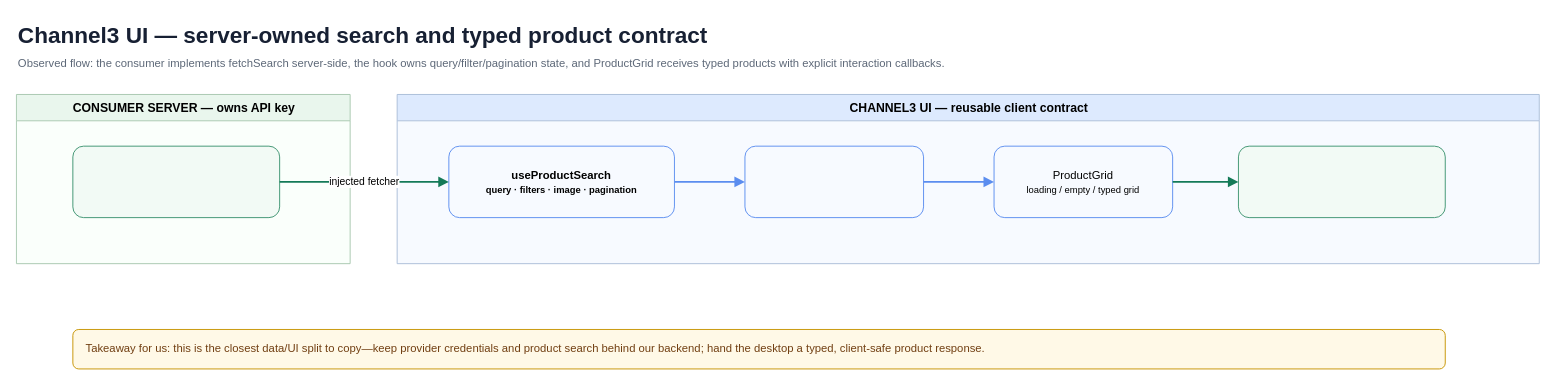
Some shapes in this 1556 by 385 pixel diagram are drawn without their labels. Here are the shapes that lost their labels. From the top down, the centre of each, then its label:
the point at 176,181: SearchFetcher calls provider server-side
the point at 834,181: SearchPage Product[] + nextPageToken
the point at 1341,181: ProductCard callbacks select · preload · select variant
